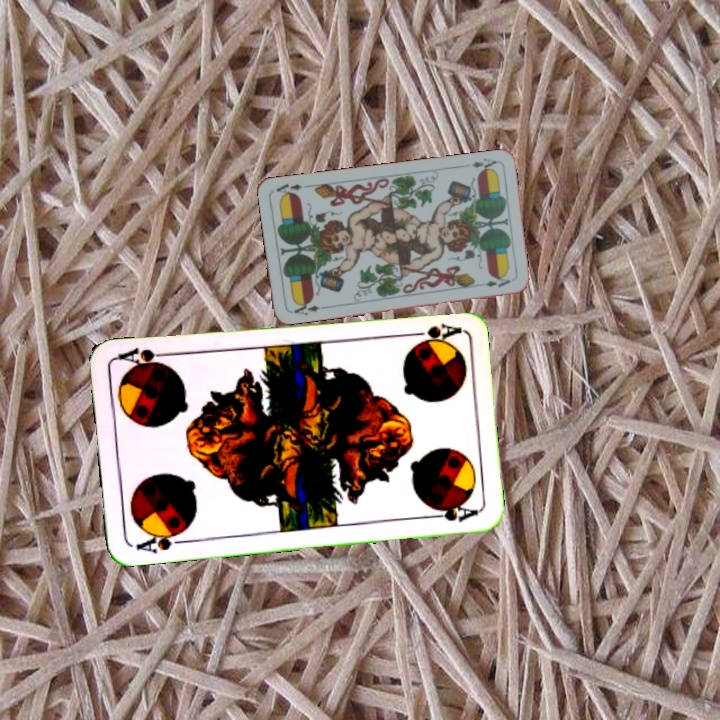EA: (287, 297, 322, 318), (468, 154, 499, 174)
SA: (132, 525, 190, 556), (402, 319, 462, 344)
